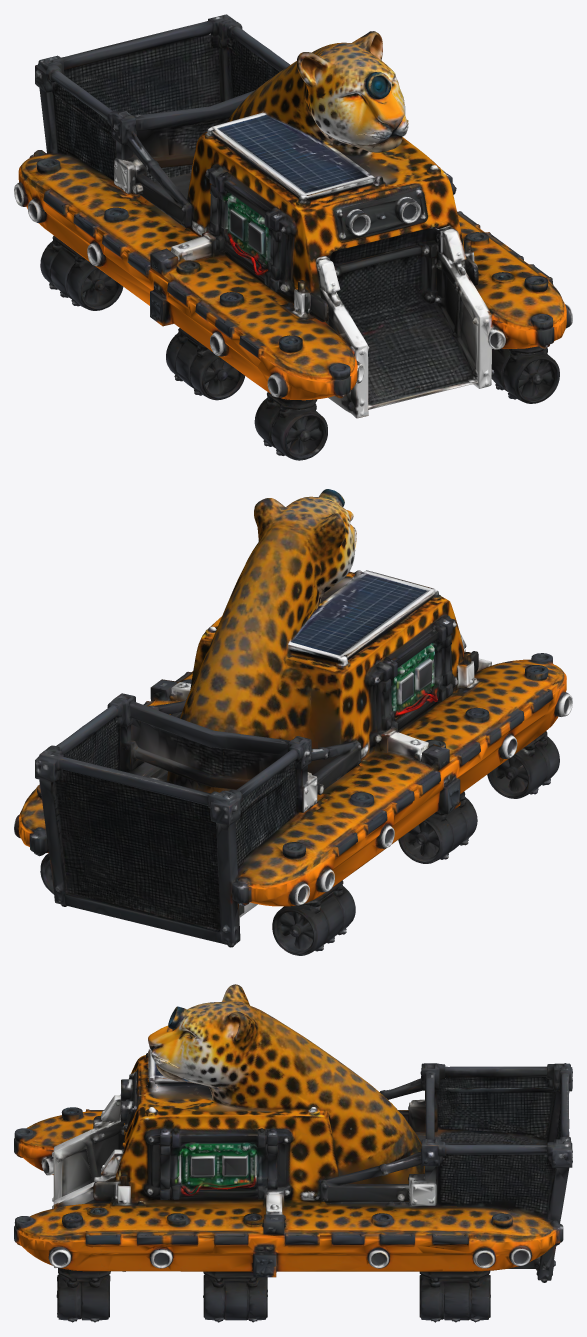
Rendered from chenek-balam.glb.
3 views of the same model, one above another, from view 1: azimuth 30°, elevation 25°; view 2: azimuth 150°, elevation 25°; view 3: azimuth 270°, elevation 25° (orthographic). The views are drawn at different scales.
Parts seen in each view (by area): view 1: node_0; view 2: node_0; view 3: node_0.
Part boxes in pixels (box(x1,y1,x2,y2)): node_0: box(14, 14, 572, 460); node_0: box(14, 489, 572, 955); node_0: box(14, 984, 572, 1322).
Bounding box in the file's own units: 0.6005 × 0.5975 × 1.09.
1 material, 1 textured.
